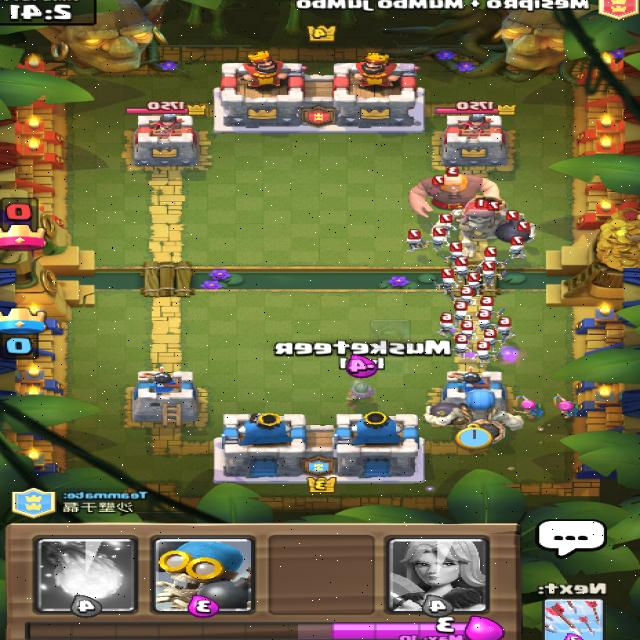Enemy-Giant: (410, 166, 510, 218)
Enemy-GiantSkeleton: (430, 194, 541, 246)
Enemy-Skeleton: (472, 340, 501, 368), (404, 228, 432, 253), (479, 260, 510, 282), (428, 224, 451, 250), (436, 267, 461, 290), (436, 212, 459, 236), (508, 236, 531, 260), (498, 317, 519, 343), (480, 295, 506, 314), (452, 334, 472, 358), (477, 308, 498, 328), (439, 311, 455, 336), (457, 319, 477, 339), (487, 246, 507, 266), (446, 241, 466, 261), (466, 272, 487, 291), (454, 300, 473, 320), (460, 286, 478, 304), (455, 255, 475, 271), (482, 327, 496, 349)
Player-Archer: (513, 394, 548, 420), (552, 393, 583, 420)
Player-GiantSkeleton: (422, 389, 528, 446)
